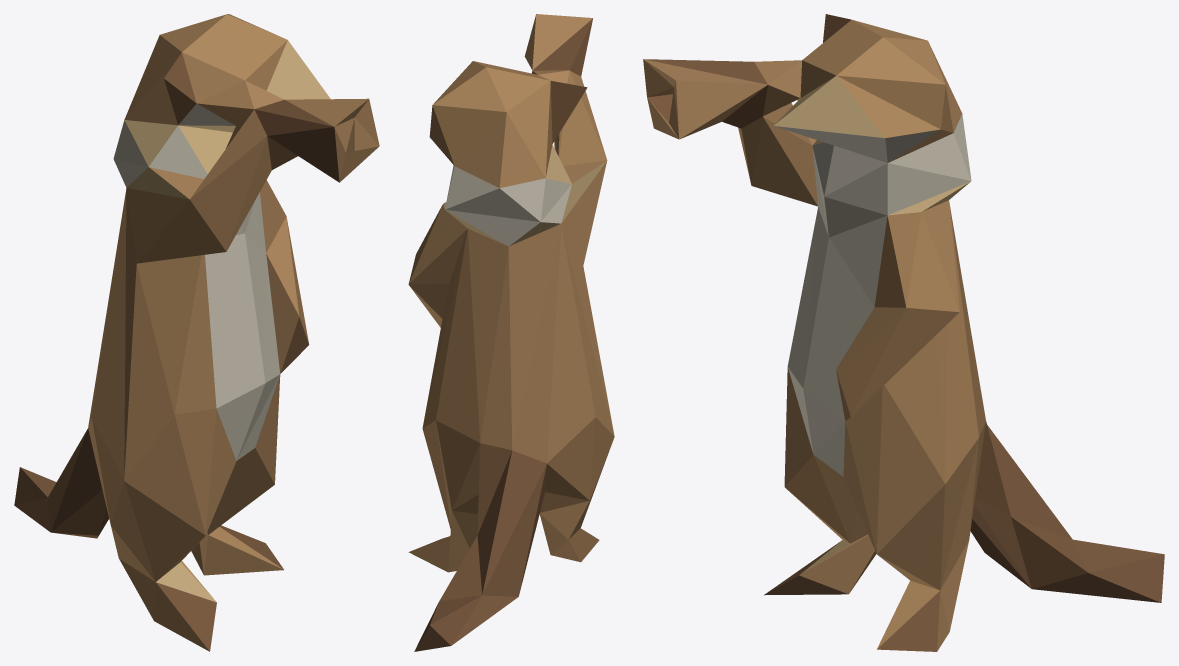
3 views of the same model, side by side, from view 1: azimuth 30°, elevation 25°; view 2: azimuth 150°, elevation 25°; view 3: azimuth 270°, elevation 25° (orthographic). The views are drawn at different scales.
Parts seen in each view (by area): view 1: lion-200.001; view 2: lion-200.001; view 3: lion-200.001.
Boxes of the visible parts, bbox=[...] form: lion-200.001: bbox=[14, 14, 379, 651]; lion-200.001: bbox=[408, 14, 614, 651]; lion-200.001: bbox=[643, 14, 1164, 651].
Size of the model in its own units: 0.3786 by 1.03 by 0.8192.
